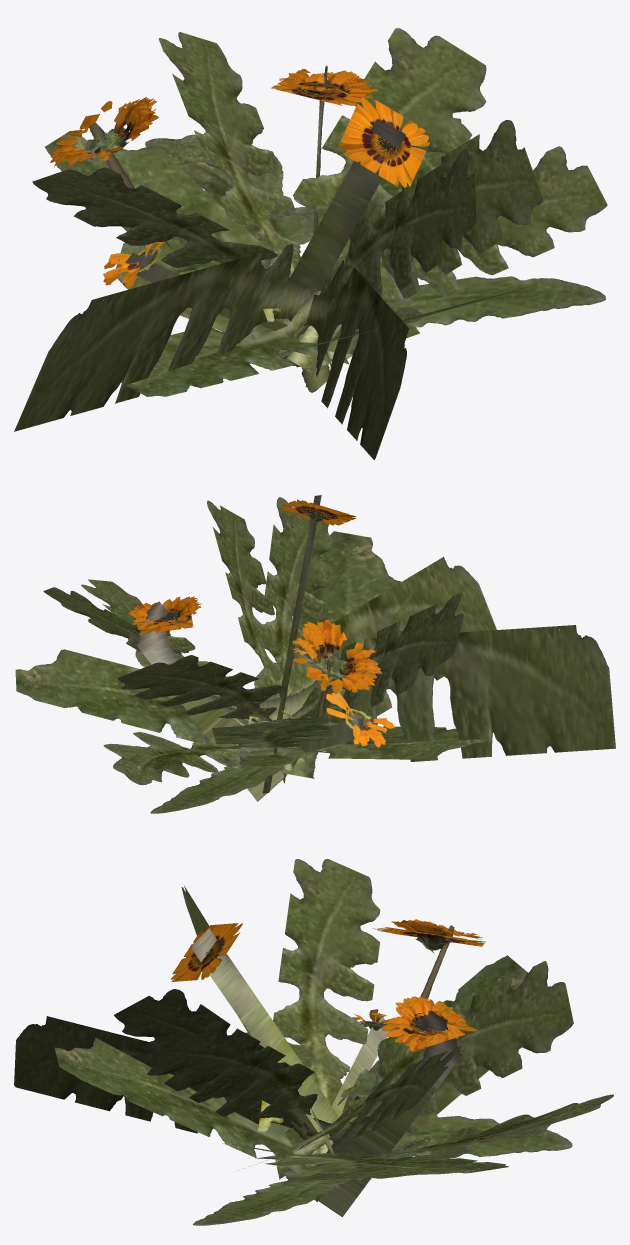
Rendered from ph_flower_gazania.glb.
3 views of the same model, one above another, from view 1: azimuth 30°, elevation 25°; view 2: azimuth 150°, elevation 25°; view 3: azimuth 270°, elevation 25° (orthographic). The views are drawn at different scales.
Visible parts, largest first — view 1: flower_gazania_h_LOD0_cards; view 2: flower_gazania_h_LOD0_cards; view 3: flower_gazania_h_LOD0_cards.
Boxes of the visible parts, x1=… form: flower_gazania_h_LOD0_cards: x1=14, y1=28, x2=607, y2=459; flower_gazania_h_LOD0_cards: x1=15, y1=495, x2=615, y2=813; flower_gazania_h_LOD0_cards: x1=14, y1=859, x2=613, y2=1225.
Bounding box in the file's own units: 0.3837 × 0.1965 × 0.3577.
Materials: 1 (1 with a texture image).
